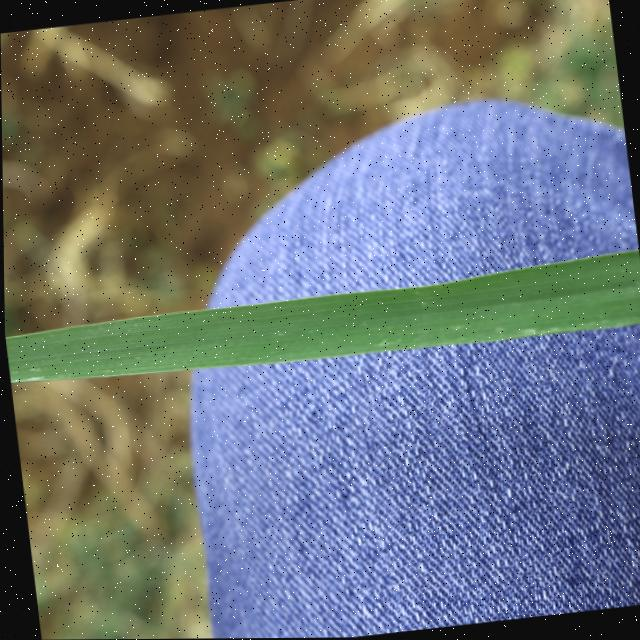healthy_wheat: (3, 234, 640, 414)
